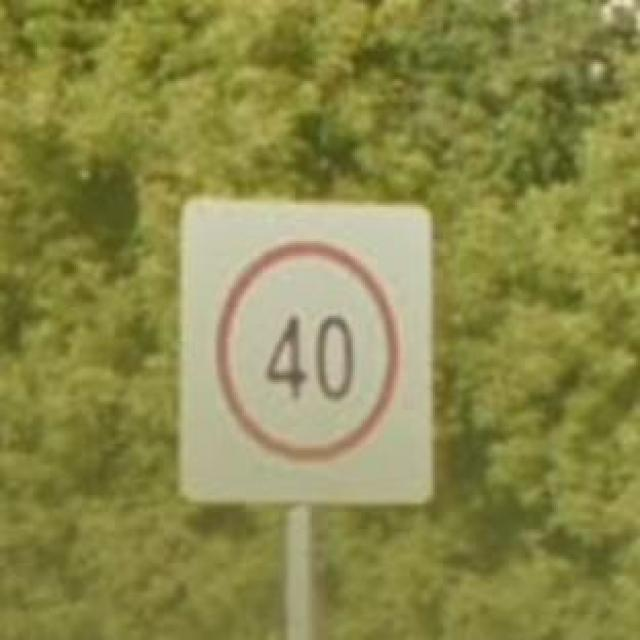traffic_sign: (211, 235, 404, 463)
